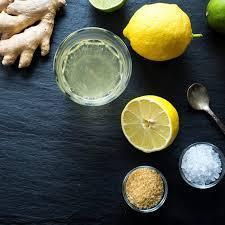lemon: (124, 3, 192, 61), (120, 95, 178, 153)
